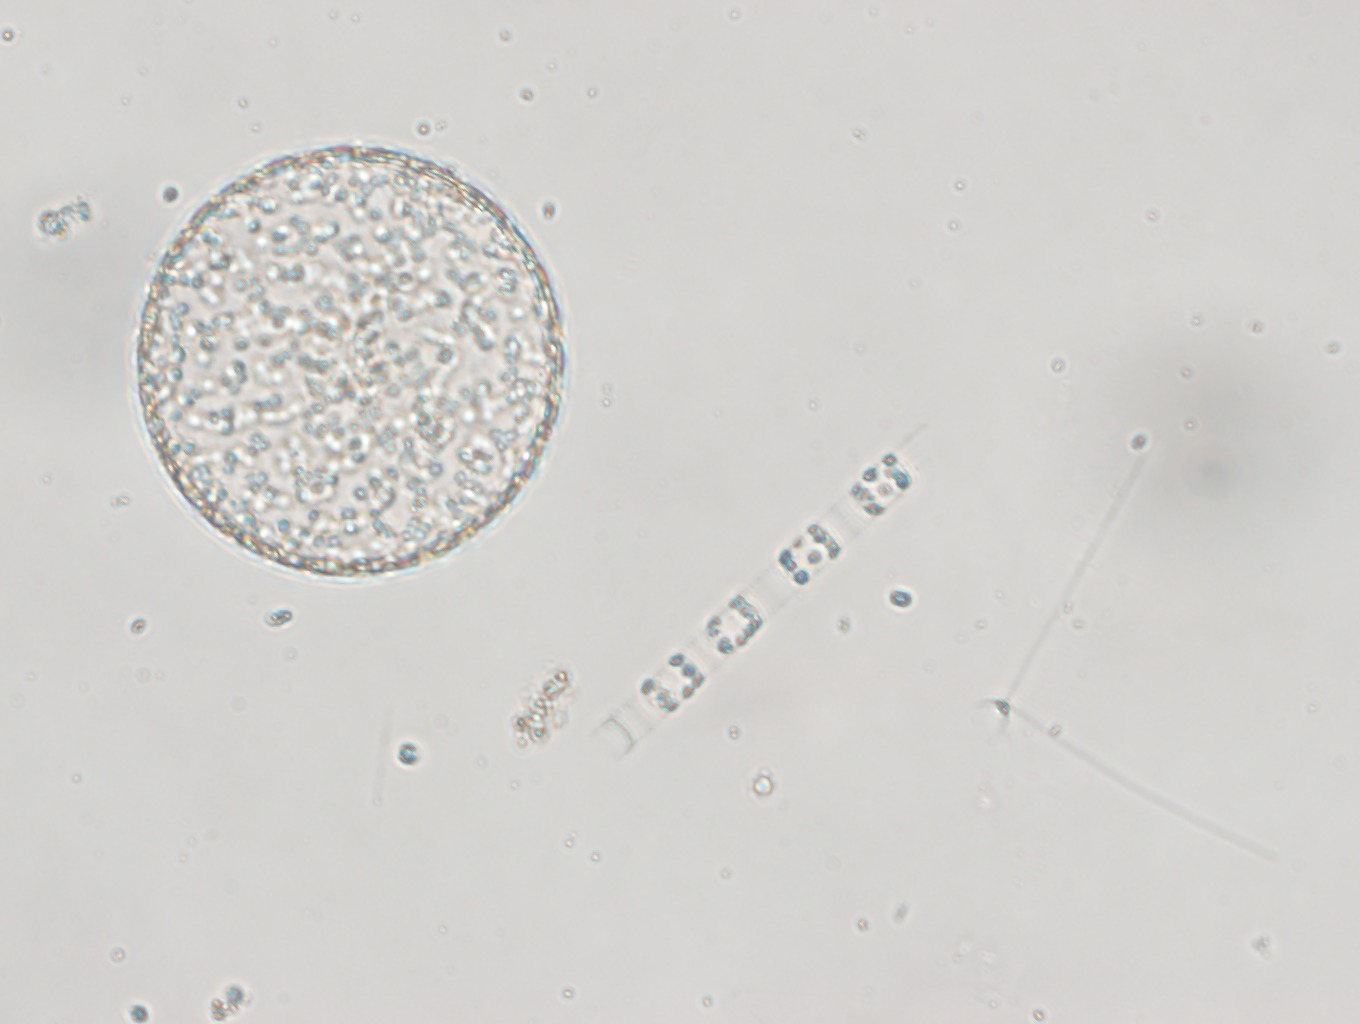coscinodiscus: (135, 142, 570, 587)
skeletonema: (595, 425, 934, 771)
